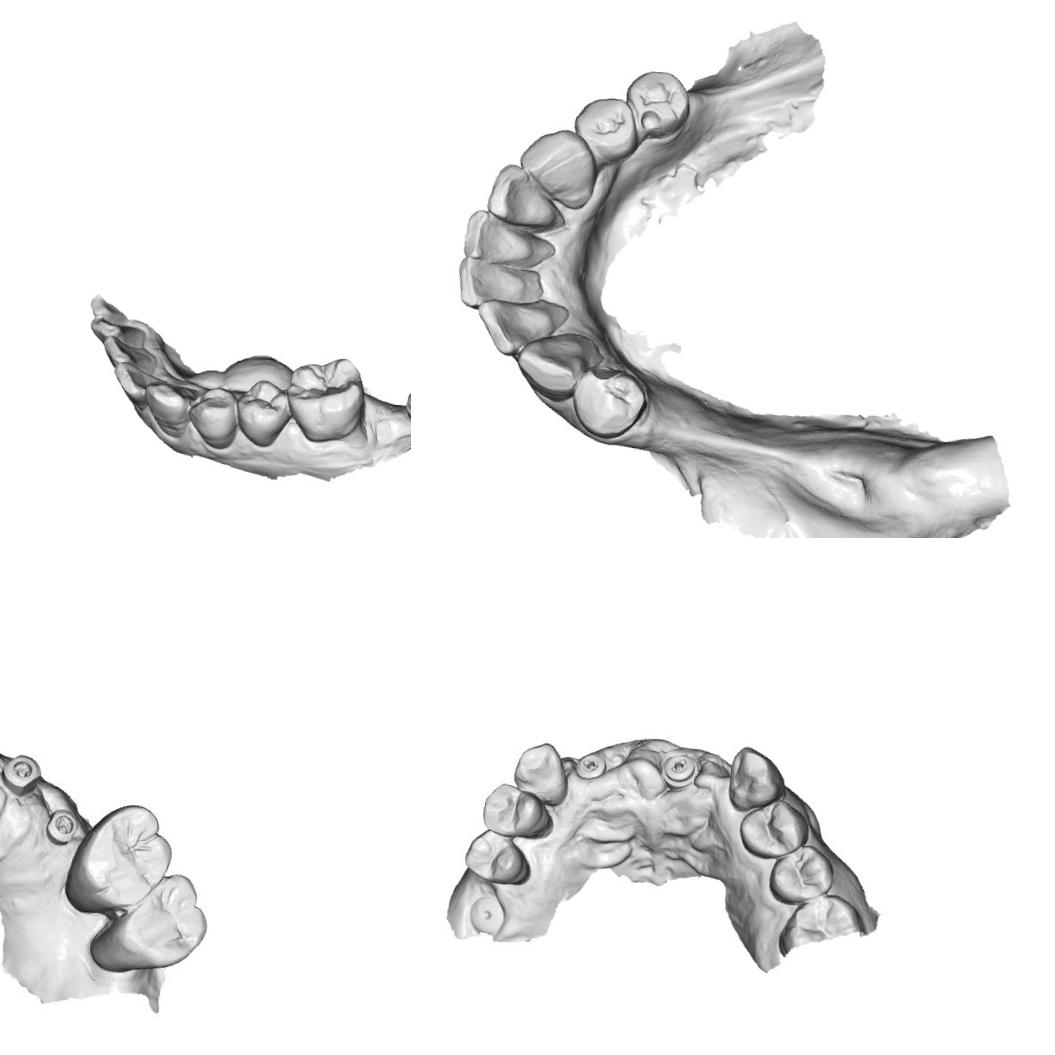canine: (514, 123, 598, 210), (514, 326, 592, 402), (725, 742, 789, 814), (510, 736, 571, 806), (138, 378, 193, 438)
implant: (42, 801, 87, 854), (2, 750, 44, 798), (466, 892, 508, 936)
implant_minus: (656, 750, 702, 795), (572, 750, 610, 781)
incisor: (456, 207, 560, 272), (470, 295, 570, 358), (453, 252, 550, 312), (484, 160, 562, 230), (110, 359, 166, 412), (100, 332, 158, 371), (88, 314, 146, 348)
molar: (88, 871, 208, 978), (70, 800, 176, 915), (283, 352, 368, 448)
premolar: (571, 364, 648, 442), (734, 794, 812, 862), (622, 67, 692, 142), (570, 94, 640, 164), (764, 839, 836, 907), (478, 780, 557, 841), (460, 825, 534, 888), (232, 376, 294, 449), (185, 384, 241, 450)
